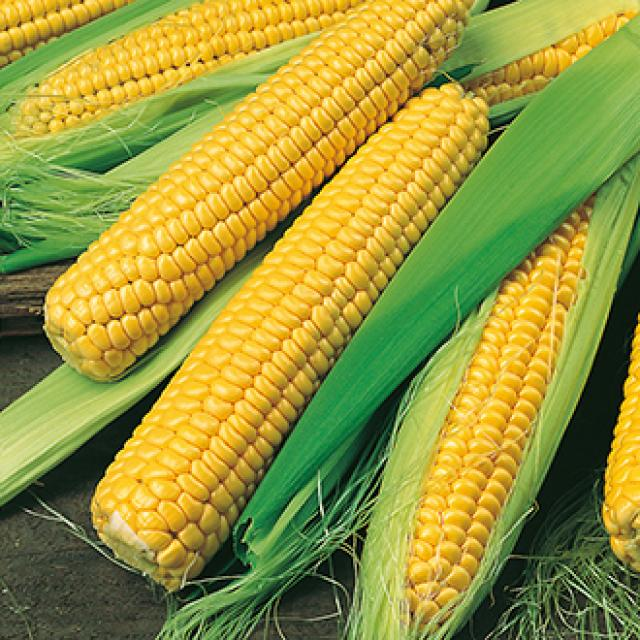corn: (77, 82, 504, 590), (32, 0, 473, 392), (368, 168, 615, 640), (7, 0, 370, 137)
